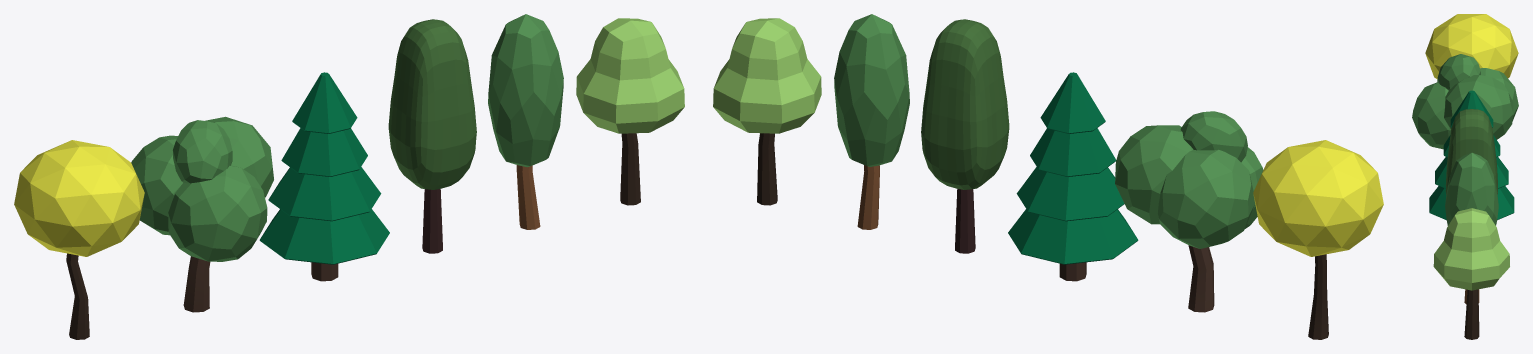
File: Trees.fbx
3 views of the same model, side by side, from view 1: azimuth 30°, elevation 25°; view 2: azimuth 150°, elevation 25°; view 3: azimuth 270°, elevation 25° (orthographic). The views are drawn at different scales.
Parts seen in each view (by area): view 1: Tree_2, Tree_1, Tree_6, Tree_3, Tree_4, Tree_5; view 2: Tree_2, Tree_1, Tree_6, Tree_3, Tree_4, Tree_5; view 3: Tree_2, Tree_4, Tree_3, Tree_5, Tree_6, Tree_1.
Boxes of the visible parts, left/top/right/bottom form: Tree_2: left=131, top=116, right=273, bottom=312; Tree_1: left=259, top=72, right=389, bottom=281; Tree_6: left=388, top=19, right=476, bottom=253; Tree_3: left=14, top=140, right=144, bottom=339; Tree_4: left=576, top=18, right=684, bottom=205; Tree_5: left=488, top=14, right=563, bottom=229; Tree_2: left=1115, top=111, right=1263, bottom=312; Tree_1: left=1008, top=72, right=1138, bottom=281; Tree_6: left=921, top=19, right=1009, bottom=253; Tree_3: left=1253, top=140, right=1383, bottom=339; Tree_4: left=713, top=18, right=821, bottom=205; Tree_5: left=834, top=14, right=909, bottom=229; Tree_2: left=1412, top=54, right=1518, bottom=149; Tree_4: left=1433, top=208, right=1509, bottom=339; Tree_3: left=1425, top=14, right=1518, bottom=79; Tree_5: left=1445, top=152, right=1498, bottom=304; Tree_6: left=1445, top=109, right=1497, bottom=194; Tree_1: left=1429, top=90, right=1514, bottom=219.
Size of the model in its own units: 1699 by 561 by 344.
